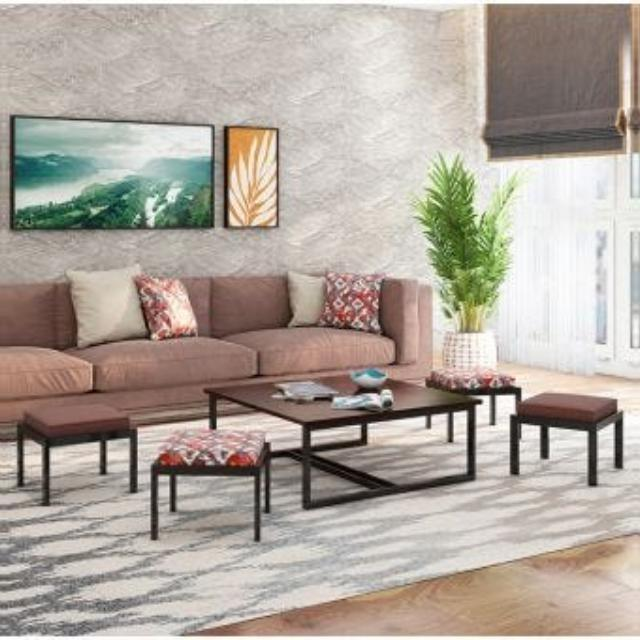obstacle: (137, 405, 281, 551), (9, 376, 152, 504), (505, 373, 633, 513), (638, 373, 640, 513)
